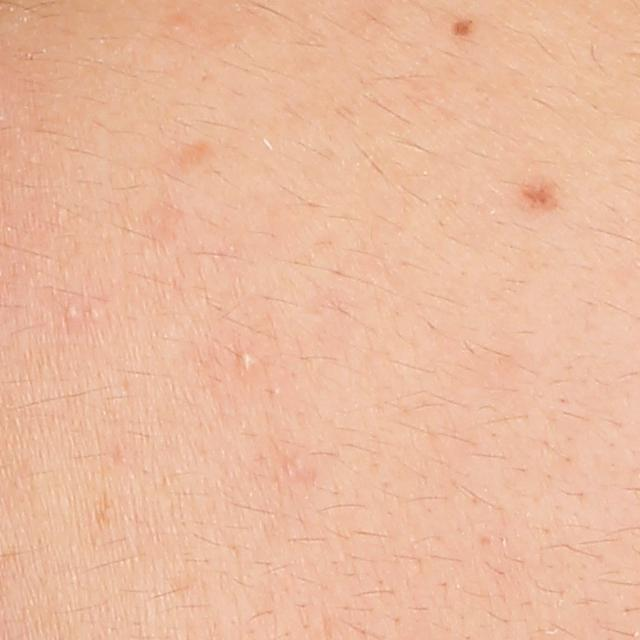comedo: (231, 347, 259, 377), (60, 301, 82, 324)
nevus: (518, 170, 560, 213), (452, 10, 479, 38)
